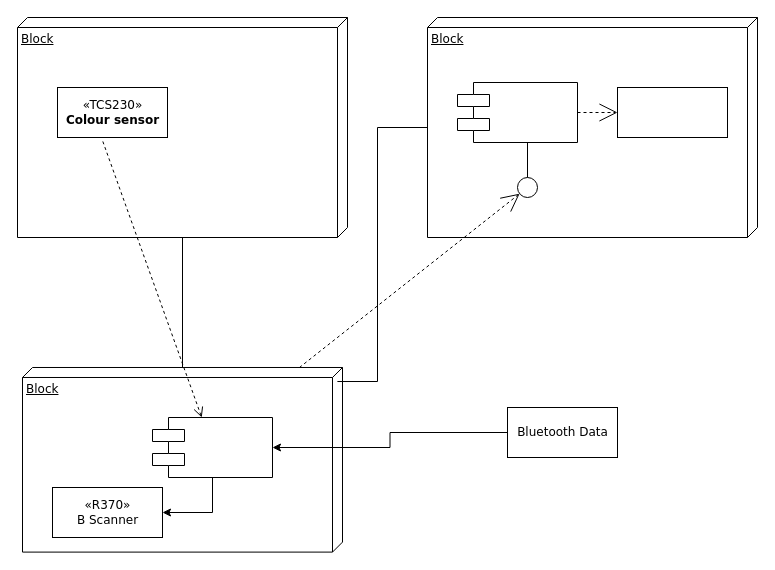
The diagram is 775 pixels wide and 570 high, and some of its shapes have lost their labels. The centre of each missing label's shape, as x and y in pixels:
"Module" goes at pixel 517 112.
"NodeMCU" goes at pixel 212 447.
"«16x2 LCD» Display" goes at pixel 672 112.
